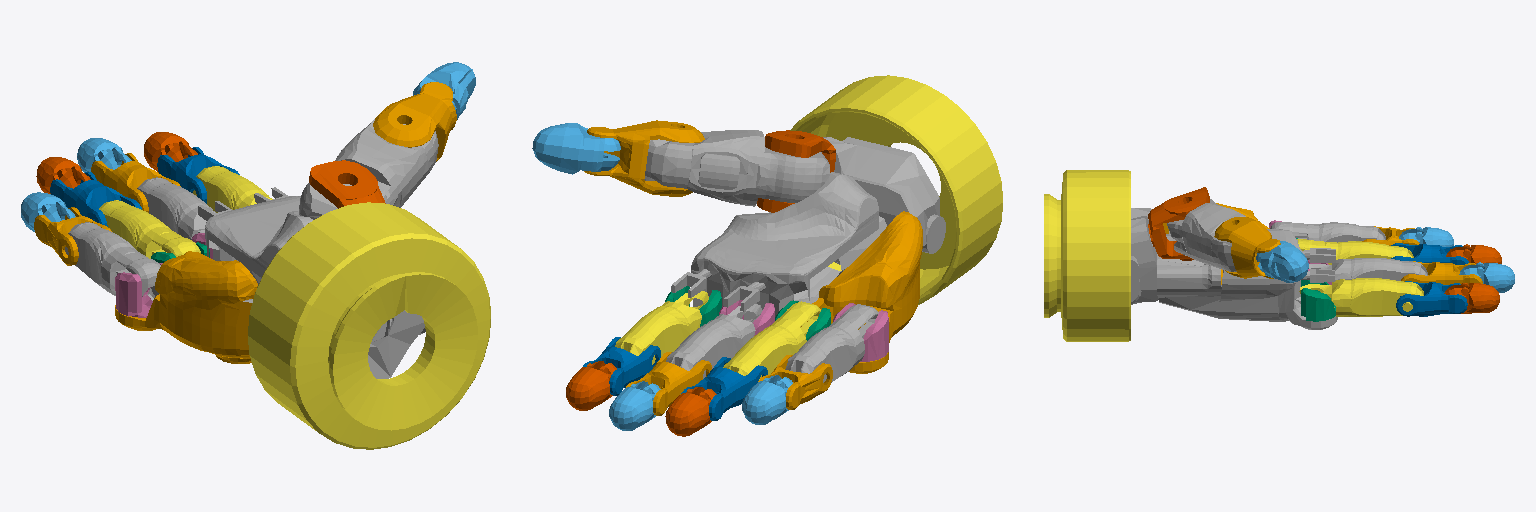
--- Facts derived from the render (not from the file) ---
Views: 3 orthographic renders of the robot side by side, from view 1: azimuth 30°, elevation 25°; view 2: azimuth 150°, elevation 25°; view 3: azimuth 270°, elevation 25°.
Robot: svh — 42 links, 41 joints (26 revolute, 15 fixed); root link world; default pose: all joints at 0.
Visible links, largest first — view 1: right_hand_base_link, right_hand_e2, right_hand_e1, right_hand_a, right_hand_b, right_hand_i, right_hand_j, right_hand_z, right_hand_k, right_hand_n, right_hand_l, right_hand_o (+8 smaller); view 2: right_hand_e1, right_hand_base_link, right_hand_a, right_hand_e2, right_hand_b, right_hand_i, right_hand_c, right_hand_j, right_hand_l, right_hand_k, right_hand_n, right_hand_o (+10 smaller); view 3: right_hand_base_link, right_hand_e1, right_hand_l, right_hand_a, right_hand_b, right_hand_z, right_hand_k, right_hand_p, right_hand_i, right_hand_c, right_hand_j, right_hand_t (+6 smaller).
Boxes of the visible links, x1,y1,x2,y2 form: right_hand_base_link: (248,202,490,449); right_hand_e2: (115,251,257,363); right_hand_e1: (198,187,425,378); right_hand_a: (299,119,438,219); right_hand_b: (373,82,456,161); right_hand_i: (65,222,160,300); right_hand_j: (99,200,200,258); right_hand_z: (309,160,385,208); right_hand_k: (137,177,215,239); right_hand_n: (50,172,141,226); right_hand_l: (193,166,272,212); right_hand_o: (91,153,180,212); right_hand_e1: (671,137,945,319); right_hand_base_link: (790,75,1002,304); right_hand_a: (644,130,829,206); right_hand_e2: (801,211,922,373); right_hand_b: (584,120,704,196); right_hand_i: (785,304,878,382); right_hand_c: (532,123,620,174); right_hand_j: (723,301,820,379); right_hand_l: (615,291,708,364); right_hand_k: (666,304,762,378); right_hand_n: (681,357,767,420); right_hand_o: (626,352,711,415); right_hand_base_link: (1044,170,1130,341); right_hand_e1: (1131,208,1337,329); right_hand_l: (1299,278,1423,316); right_hand_a: (1167,199,1245,271); right_hand_b: (1214,217,1280,278); right_hand_z: (1148,187,1209,260); right_hand_k: (1309,258,1427,280); right_hand_p: (1396,281,1467,316); right_hand_i: (1270,222,1385,242); right_hand_c: (1256,241,1308,282); right_hand_j: (1297,239,1413,264); right_hand_t: (1444,283,1499,313).
Bounding box of the posed robot: 0.1609 × 0.2465 × 0.0936 m (x, y, z).
23 mesh visuals loaded from 30 distinct referenced files (23 binary STL); not drawn: 7 (reference not matched to a file when rendering).

robot.urdf — svh:
<?xml version="1.0" ?>
<!-- =================================================================================== -->
<!-- |    This document was autogenerated by xacro from svh_ur5_mujoco.urdf.xacro      | -->
<!-- |    EDITING THIS FILE BY HAND IS NOT RECOMMENDED                                 | -->
<!-- =================================================================================== -->
<robot name="svh">
  <mujoco>
    <compiler balanceinertia="true" discardvisual="false" meshdir="[local-path]/catkin_ws/src/mujoco_ur5_svh_coupled/meshes"/>
  </mujoco>
  <!--
  <xacro:macro name="cylinder_inertial_fingers" params="radius length mass *origin">
    <inertial>
        <origin xyz="0 0 0" rpy="0 0 0" />
        <mass value="0.01" />
        <inertia
          ixx="0.1" ixy="0.0" ixz="0.0"
          iyy="0.1" iyz="0.0"
          izz="0.1" />
    </inertial>
  </xacro:macro>
  -->
  <gazebo>
    <plugin filename="libgazebo_ros_control.so" name="gazebo_ros_control">
      <controlPeriod>0.001</controlPeriod>
    </plugin>
  </gazebo>
  <gazebo>
    <plugin filename="libgazebo_ros_control.so" name="ros_control">
      <!--robotNamespace>/</robotNamespace-->
      <!--robotSimType>gazebo_ros_control/DefaultRobotHWSim</robotSimType-->
    </plugin>
    <!--
    <plugin name="gazebo_ros_power_monitor_controller" filename="libgazebo_ros_power_monitor.so">
      <alwaysOn>true</alwaysOn>
      <updateRate>1.0</updateRate>
      <timeout>5</timeout>
      <powerStateTopic>power_state</powerStateTopic>
      <powerStateRate>10.0</powerStateRate>
      <fullChargeCapacity>87.78</fullChargeCapacity>     
      <dischargeRate>-474</dischargeRate>
      <chargeRate>525</chargeRate>
      <dischargeVoltage>15.52</dischargeVoltage>
      <chargeVoltage>16.41</chargeVoltage>
    </plugin>
-->
  </gazebo>
  <!-- measured from model -->
  <!--property name="shoulder_height" value="0.089159" /-->
  <!--property name="shoulder_offset" value="0.13585" /-->
  <!-- shoulder_offset - elbow_offset + wrist_1_length = 0.10915 -->
  <!--property name="upper_arm_length" value="0.42500" /-->
  <!--property name="elbow_offset" value="0.1197" /-->
  <!-- CAD measured -->
  <!--property name="forearm_length" value="0.39225" /-->
  <!--property name="wrist_1_length" value="0.093" /-->
  <!-- CAD measured -->
  <!--property name="wrist_2_length" value="0.09465" /-->
  <!-- In CAD this distance is 0.930, but in the spec it is 0.09465 -->
  <!--property name="wrist_3_length" value="0.0823" /-->
  <!-- manually measured -->
  <link name="base_link">
    <visual>
      <geometry>
        <mesh filename="package://mujoco_ur5_svh_coupled/meshes/visual/base.stl"/>
      </geometry>
      <material name="LightGrey">
        <color rgba="0.7 0.7 0.7 1.0"/>
      </material>
    </visual>
    <collision>
      <geometry>
        <mesh filename="package://mujoco_ur5_svh_coupled/meshes/collision/base.stl"/>
      </geometry>
    </collision>
    <inertial>
      <mass value="4.0"/>
      <origin rpy="0 0 0" xyz="0.0 0.0 0.0"/>
      <inertia ixx="0.00443333156" ixy="0.0" ixz="0.0" iyy="0.00443333156" iyz="0.0" izz="0.0072"/>
    </inertial>
  </link>
  <joint name="shoulder_pan_joint" type="revolute">
    <parent link="base_link"/>
    <child link="shoulder_link"/>
    <origin rpy="0.0 0.0 0.0" xyz="0.0 0.0 0.089159"/>
    <axis xyz="0 0 1"/>
    <limit effort="150.0" lower="-3.141592653589793" upper="3.141592653589793" velocity="3.15"/>
    <dynamics damping="0.0" friction="0.0"/>
  </joint>
  <link name="shoulder_link">
    <visual>
      <geometry>
        <mesh filename="package://mujoco_ur5_svh_coupled/meshes/visual/shoulder.stl"/>
      </geometry>
      <material name="LightGrey">
        <color rgba="0.7 0.7 0.7 1.0"/>
      </material>
    </visual>
    <collision>
      <geometry>
        <mesh filename="package://mujoco_ur5_svh_coupled/meshes/collision/shoulder.stl"/>
      </geometry>
    </collision>
    <inertial>
      <mass value="3.7"/>
      <origin rpy="0 0 0" xyz="0.0 0.0 0.0"/>
      <inertia ixx="0.010267495893" ixy="0.0" ixz="0.0" iyy="0.010267495893" iyz="0.0" izz="0.00666"/>
    </inertial>
  </link>
  <joint name="shoulder_lift_joint" type="revolute">
    <parent link="shoulder_link"/>
    <child link="upper_arm_link"/>
    <origin rpy="0.0 1.5707963267948966 0.0" xyz="0.0 0.13585 0.0"/>
    <axis xyz="0 1 0"/>
    <limit effort="150.0" lower="-3.141592653589793" upper="3.141592653589793" velocity="3.15"/>
    <dynamics damping="0.0" friction="0.0"/>
  </joint>
  <link name="upper_arm_link">
    <visual>
      <geometry>
        <mesh filename="package://mujoco_ur5_svh_coupled/meshes/visual/upperarm.stl"/>
      </geometry>
      <material name="LightGrey">
        <color rgba="0.7 0.7 0.7 1.0"/>
      </material>
    </visual>
    <collision>
      <geometry>
        <mesh filename="package://mujoco_ur5_svh_coupled/meshes/collision/upperarm.stl"/>
      </geometry>
    </collision>
    <inertial>
      <mass value="8.393"/>
      <origin rpy="0 0 0" xyz="0.0 0.0 0.28"/>
      <inertia ixx="0.22689067591036005" ixy="0.0" ixz="0.0" iyy="0.22689067591036005" iyz="0.0" izz="0.0151074"/>
    </inertial>
  </link>
  <joint name="elbow_joint" type="revolute">
    <parent link="upper_arm_link"/>
    <child link="forearm_link"/>
    <origin rpy="0.0 0.0 0.0" xyz="0.0 -0.1197 0.425"/>
    <axis xyz="0 1 0"/>
    <limit effort="150.0" lower="-3.141592653589793" upper="3.141592653589793" velocity="3.15"/>
    <dynamics damping="0.0" friction="0.0"/>
  </joint>
  <link name="forearm_link">
    <visual>
      <geometry>
        <mesh filename="package://mujoco_ur5_svh_coupled/meshes/visual/forearm.stl"/>
      </geometry>
      <material name="LightGrey">
        <color rgba="0.7 0.7 0.7 1.0"/>
      </material>
    </visual>
    <collision>
      <geometry>
        <mesh filename="package://mujoco_ur5_svh_coupled/meshes/collision/forearm.stl"/>
      </geometry>
    </collision>
    <inertial>
      <mass value="2.275"/>
      <origin rpy="0 0 0" xyz="0.0 0.0 0.196125"/>
      <inertia ixx="0.03121679102890359" ixy="0.0" ixz="0.0" iyy="0.03121679102890359" iyz="0.0" izz="0.004095"/>
    </inertial>
  </link>
  <joint name="wrist_1_joint" type="revolute">
    <parent link="forearm_link"/>
    <child link="wrist_1_link"/>
    <origin rpy="0.0 1.5707963267948966 0.0" xyz="0.0 0.0 0.39225"/>
    <axis xyz="0 1 0"/>
    <limit effort="28.0" lower="-3.141592653589793" upper="3.141592653589793" velocity="3.2"/>
    <dynamics damping="0.0" friction="0.0"/>
  </joint>
  <link name="wrist_1_link">
    <visual>
      <geometry>
        <mesh filename="package://mujoco_ur5_svh_coupled/meshes/visual/wrist1.stl"/>
      </geometry>
      <material name="LightGrey">
        <color rgba="0.7 0.7 0.7 1.0"/>
      </material>
    </visual>
    <collision>
      <geometry>
        <mesh filename="package://mujoco_ur5_svh_coupled/meshes/collision/wrist1.stl"/>
      </geometry>
    </collision>
    <inertial>
      <mass value="1.219"/>
      <origin rpy="0 0 0" xyz="0.0 0.093 0.0"/>
      <inertia ixx="0.0025598989760400002" ixy="0.0" ixz="0.0" iyy="0.0025598989760400002" iyz="0.0" izz="0.0021942"/>
    </inertial>
  </link>
  <joint name="wrist_2_joint" type="revolute">
    <parent link="wrist_1_link"/>
    <child link="wrist_2_link"/>
    <origin rpy="0.0 0.0 0.0" xyz="0.0 0.093 0.0"/>
    <axis xyz="0 0 1"/>
    <limit effort="28.0" lower="-3.141592653589793" upper="3.141592653589793" velocity="3.2"/>
    <dynamics damping="0.0" friction="0.0"/>
  </joint>
  <link name="wrist_2_link">
    <visual>
      <geometry>
        <mesh filename="package://mujoco_ur5_svh_coupled/meshes/visual/wrist2.stl"/>
      </geometry>
      <material name="LightGrey">
        <color rgba="0.7 0.7 0.7 1.0"/>
      </material>
    </visual>
    <collision>
      <geometry>
        <mesh filename="package://mujoco_ur5_svh_coupled/meshes/collision/wrist2.stl"/>
      </geometry>
    </collision>
    <inertial>
      <mass value="1.219"/>
      <origin rpy="0 0 0" xyz="0.0 0.0 0.09465"/>
      <inertia ixx="0.0025598989760400002" ixy="0.0" ixz="0.0" iyy="0.0025598989760400002" iyz="0.0" izz="0.0021942"/>
    </inertial>
  </link>
  <joint name="wrist_3_joint" type="revolute">
    <parent link="wrist_2_link"/>
    <child link="wrist_3_link"/>
    <origin rpy="0.0 0.0 0.0" xyz="0.0 0.0 0.09465"/>
    <axis xyz="0 1 0"/>
    <limit effort="28.0" lower="-3.141592653589793" upper="3.141592653589793" velocity="3.2"/>
    <dynamics damping="0.0" friction="0.0"/>
  </joint>
  <link name="wrist_3_link">
    <visual>
      <geometry>
        <mesh filename="package://mujoco_ur5_svh_coupled/meshes/visual/wrist3.stl"/>
      </geometry>
      <material name="LightGrey">
        <color rgba="0.7 0.7 0.7 1.0"/>
      </material>
    </visual>
    <collision>
      <geometry>
        <mesh filename="package://mujoco_ur5_svh_coupled/meshes/collision/wrist3.stl"/>
      </geometry>
    </collision>
    <inertial>
      <mass value="0.1879"/>
      <origin rpy="1.5707963267948966 0 0" xyz="0.0 0.06505 0.0"/>
      <inertia ixx="8.469589112163e-05" ixy="0.0" ixz="0.0" iyy="8.469589112163e-05" iyz="0.0" izz="0.0001321171875"/>
    </inertial>
  </link>
  <joint name="ee_fixed_joint" type="fixed">
    <parent link="wrist_3_link"/>
    <child link="ee_link"/>
    <origin rpy="0.0 0.0 1.5707963267948966" xyz="0.0 0.0823 0.0"/>
  </joint>
  <link name="ee_link">
    <collision>
      <geometry>
        <box size="0.01 0.01 0.01"/>
      </geometry>
      <origin rpy="0 0 0" xyz="-0.01 0 0"/>
    </collision>
  </link>
  <transmission name="shoulder_pan_trans">
    <type>transmission_interface/SimpleTransmission</type>
    <joint name="shoulder_pan_joint">
      <hardwareInterface>hardware_interface/EffortJointInterface</hardwareInterface>
    </joint>
    <actuator name="shoulder_pan_motor">
      <mechanicalReduction>1</mechanicalReduction>
    </actuator>
  </transmission>
  <transmission name="shoulder_lift_trans">
    <type>transmission_interface/SimpleTransmission</type>
    <joint name="shoulder_lift_joint">
      <hardwareInterface>hardware_interface/EffortJointInterface</hardwareInterface>
    </joint>
    <actuator name="shoulder_lift_motor">
      <mechanicalReduction>1</mechanicalReduction>
    </actuator>
  </transmission>
  <transmission name="elbow_trans">
    <type>transmission_interface/SimpleTransmission</type>
    <joint name="elbow_joint">
      <hardwareInterface>hardware_interface/EffortJointInterface</hardwareInterface>
    </joint>
    <actuator name="elbow_motor">
      <mechanicalReduction>1</mechanicalReduction>
    </actuator>
  </transmission>
  <transmission name="wrist_1_trans">
    <type>transmission_interface/SimpleTransmission</type>
    <joint name="wrist_1_joint">
      <hardwareInterface>hardware_interface/EffortJointInterface</hardwareInterface>
    </joint>
    <actuator name="wrist_1_motor">
      <mechanicalReduction>1</mechanicalReduction>
    </actuator>
  </transmission>
  <transmission name="wrist_2_trans">
    <type>transmission_interface/SimpleTransmission</type>
    <joint name="wrist_2_joint">
      <hardwareInterface>hardware_interface/EffortJointInterface</hardwareInterface>
    </joint>
    <actuator name="wrist_2_motor">
      <mechanicalReduction>1</mechanicalReduction>
    </actuator>
  </transmission>
  <transmission name="wrist_3_trans">
    <type>transmission_interface/SimpleTransmission</type>
    <joint name="wrist_3_joint">
      <hardwareInterface>hardware_interface/EffortJointInterface</hardwareInterface>
    </joint>
    <actuator name="wrist_3_motor">
      <mechanicalReduction>1</mechanicalReduction>
    </actuator>
  </transmission>
  <gazebo reference="shoulder_link">
    <selfCollide>true</selfCollide>
  </gazebo>
  <gazebo reference="upper_arm_link">
    <selfCollide>true</selfCollide>
  </gazebo>
  <gazebo reference="forearm_link">
    <selfCollide>true</selfCollide>
  </gazebo>
  <gazebo reference="wrist_1_link">
    <selfCollide>true</selfCollide>
  </gazebo>
  <gazebo reference="wrist_3_link">
    <selfCollide>true</selfCollide>
  </gazebo>
  <gazebo reference="wrist_2_link">
    <selfCollide>true</selfCollide>
  </gazebo>
  <gazebo reference="ee_link">
    <selfCollide>true</selfCollide>
  </gazebo>
  <!-- ROS base_link to UR 'Base' Coordinates transform -->
  <link name="base"/>
  <joint name="base_link-base_fixed_joint" type="fixed">
    <!-- NOTE: this rotation is only needed as long as base_link itself is
                 not corrected wrt the real robot (ie: rotated over 180
                 degrees)
      -->
    <origin rpy="0 0 -3.141592653589793" xyz="0 0 0"/>
    <parent link="base_link"/>
    <child link="base"/>
  </joint>
  <!-- Frame coincident with all-zeros TCP on UR controller -->
  <link name="tool0"/>
  <joint name="wrist_3_link-tool0_fixed_joint" type="fixed">
    <origin rpy="-1.5707963267948966 0 0" xyz="0 0.0823 0"/>
    <parent link="wrist_3_link"/>
    <child link="tool0"/>
  </joint>
  <link name="world"/>
  <joint name="world_joint" type="fixed">
    <parent link="world"/>
    <child link="base_link"/>
    <origin rpy="0.0 0.0 0.0" xyz="0.0 0.0 0.0"/>
  </joint>
  <!-- RIGHT HAND = 1, LEFT HAND = -1 -->
  <!-- BASE_LINE LINKS -->
  <joint name="right_hand_base_joint" type="fixed">
    <origin rpy="0 0 0" xyz="0 0 0.032"/>
    <parent link="tool0"/>
    <child link="right_hand_base_link"/>
  </joint>
  <link name="right_hand_base_link">
    <origin rpy="0 0 0" xyz="0 0 0.032"/>
    <visual>
      <origin rpy="0 0 0" xyz="0 0 -0.032"/>
      <geometry>
        <mesh filename="package://mujoco_ur5_svh_coupled/meshes/base10.stl"/>
      </geometry>
    </visual>
    <collision>
      <origin rpy="0 0 0" xyz="0 0 -0.032"/>
      <geometry>
        <mesh filename="package://mujoco_ur5_svh_coupled/meshes/base10.stl"/>
      </geometry>
    </collision>
    <inertial>
      <origin rpy="0 0 0" xyz="0 0 0"/>
      <mass value="0.01"/>
      <inertia ixx="0.1" ixy="0.0" ixz="0.0" iyy="0.1" iyz="0.0" izz="0.1"/>
    </inertial>
  </link>
  <link name="right_hand_d">
    <inertial>
      <origin rpy="0 0 0" xyz="0 0 0"/>
      <mass value="0.01"/>
      <inertia ixx="0.1" ixy="0.0" ixz="0.0" iyy="0.1" iyz="0.0" izz="0.1"/>
    </inertial>
  </link>
  <link name="right_hand_h">
    <inertial>
      <origin rpy="0 0 0" xyz="0 0 0"/>
      <mass value="0.01"/>
      <inertia ixx="0.1" ixy="0.0" ixz="0.0" iyy="0.1" iyz="0.0" izz="0.1"/>
    </inertial>
  </link>
  <link name="right_hand_d2">
    <inertial>
      <origin rpy="0 0 0" xyz="0 0 0"/>
      <mass value="0.01"/>
      <inertia ixx="0.1" ixy="0.0" ixz="0.0" iyy="0.1" iyz="0.0" izz="0.1"/>
    </inertial>
  </link>
  <!-- LENGTH NOT FOUND IN DATASHEET! GUESSED!!! -->
  <link name="right_hand_e1">
    <visual>
      <origin rpy="0 0 0" xyz="0 0.01313 0"/>
      <geometry>
        <mesh filename="package://mujoco_ur5_svh_coupled/meshes/h10.stl" scale="1 1 1"/>
      </geometry>
    </visual>
    <collision>
      <origin rpy="0 0 0" xyz="0 0.01313 0"/>
      <geometry>
        <mesh filename="package://mujoco_ur5_svh_coupled/meshes/h10.stl" scale="1 1 1"/>
      </geometry>
    </collision>
    <inertial>
      <origin rpy="0 0 0" xyz="0 0 0"/>
      <mass value="0.01"/>
      <inertia ixx="0.1" ixy="0.0" ixz="0.0" iyy="0.1" iyz="0.0" izz="0.1"/>
    </inertial>
  </link>
  <!-- LENGTH NOT FOUND IN DATASHEET! GUESSED!!! -->
  <link name="right_hand_e2">
    <visual>
      <origin xyz="-0.0007 0 -0.01002"/>
      <geometry>
        <mesh filename="package://mujoco_ur5_svh_coupled/meshes/h11.stl" scale="1 1 1"/>
      </geometry>
    </visual>
    <collision>
      <origin xyz="-0.0007 0 -0.01002"/>
      <geometry>
        <mesh filename="package://mujoco_ur5_svh_coupled/meshes/h11.stl" scale="1 1 1"/>
      </geometry>
    </collision>
    <inertial>
      <origin rpy="0 0 0" xyz="0 0 0"/>
      <mass value="0.01"/>
      <inertia ixx="0.1" ixy="0.0" ixz="0.0" iyy="0.1" iyz="0.0" izz="0.1"/>
    </inertial>
  </link>
  <!-- LENGTH NOT FOUND IN DATASHEET! GUESSED!!! -->
  <link name="right_hand_e3">
    <inertial>
      <origin rpy="0 0 0" xyz="0 0 0"/>
      <mass value="0.01"/>
      <inertia ixx="0.1" ixy="0.0" ixz="0.0" iyy="0.1" iyz="0.0" izz="0.1"/>
    </inertial>
  </link>
  <link name="right_hand_e">
    <inertial>
      <origin rpy="0 0 0" xyz="0 0 0"/>
      <mass value="0.01"/>
      <inertia ixx="0.1" ixy="0.0" ixz="0.0" iyy="0.1" iyz="0.0" izz="0.1"/>
    </inertial>
  </link>
  <!-- LENGTH NOT FOUND IN DATASHEET! GUESSED, BUT POSITION CALCULATED: E4 = D-G-F!!! -->
  <link name="right_hand_e4">
    <inertial>
      <origin rpy="0 0 0" xyz="0 0 0"/>
      <mass value="0.01"/>
      <inertia ixx="0.1" ixy="0.0" ixz="0.0" iyy="0.1" iyz="0.0" izz="0.1"/>
    </inertial>
  </link>
  <!-- LENGTH NOT FOUND IN DATASHEET! GUESSED, BUT POSITION CALCULATED: E5 = D-G!!! -->
  <link name="right_hand_e5">
    <inertial>
      <origin rpy="0 0 0" xyz="0 0 0"/>
      <mass value="0.01"/>
      <inertia ixx="0.1" ixy="0.0" ixz="0.0" iyy="0.1" iyz="0.0" izz="0.1"/>
    </inertial>
  </link>
  <!-- THUMB LINKS -->
  <link name="right_hand_z">
    <visual>
      <origin xyz="0 0 0.02442"/>
      <geometry>
        <mesh filename="package://mujoco_ur5_svh_coupled/meshes/d10.stl" scale="1 1 1"/>
      </geometry>
    </visual>
    <collision>
      <origin xyz="0 0 0.02442"/>
      <geometry>
        <mesh filename="package://mujoco_ur5_svh_coupled/meshes/d10.stl" scale="1 1 1"/>
      </geometry>
    </collision>
    <inertial>
      <origin rpy="0 0 0" xyz="0 0 0"/>
      <mass value="0.01"/>
      <inertia ixx="0.1" ixy="0.0" ixz="0.0" iyy="0.1" iyz="0.0" izz="0.1"/>
    </inertial>
  </link>
  <link name="right_hand_virtual_a">
    <inertial>
      <origin rpy="0 0 0" xyz="0 0 0"/>
      <mass value="0.01"/>
      <inertia ixx="0.1" ixy="0.0" ixz="0.0" iyy="0.1" iyz="0.0" izz="0.1"/>
    </inertial>
  </link>
  <link name="right_hand_a">
    <visual>
      <geometry>
        <mesh filename="package://mujoco_ur5_svh_coupled/meshes/d11.stl" scale="1 1 1"/>
      </geometry>
    </visual>
    <collision>
      <geometry>
        <mesh filename="package://mujoco_ur5_svh_coupled/meshes/d11.stl" scale="1 1 1"/>
      </geometry>
    </collision>
    <inertial>
      <mass value="0.078"/>
      <origin rpy="0 0 0" xyz="0.0 0.0 0.0"/>
      <inertia ixx="0.1498224" ixy="0.0" ixz="0.0" iyy="0.11553615378552" iyz="0.0" izz="0.11553615378552"/>
    </inertial>
  </link>
  <link name="right_hand_b">
    <visual>
      <geometry>
        <mesh filename="package://mujoco_ur5_svh_coupled/meshes/d12.stl" scale="1 1 1"/>
      </geometry>
    </visual>
    <collision>
      <geometry>
        <mesh filename="package://mujoco_ur5_svh_coupled/meshes/d12.stl" scale="1 1 1"/>
      </geometry>
    </collision>
    <inertial>
      <mass value="0.0325"/>
      <origin rpy="0 0 0" xyz="0.0 0.0 0.0"/>
      <inertia ixx="0.062426" ixy="0.0" ixz="0.0" iyy="0.0373067350773" iyz="0.0" izz="0.0373067350773"/>
    </inertial>
  </link>
  <link name="right_hand_c">
    <visual>
      <geometry>
        <mesh filename="package://mujoco_ur5_svh_coupled/meshes/d13.stl" scale="1 1 1"/>
      </geometry>
    </visual>
    <collision>
      <geometry>
        <mesh filename="package://mujoco_ur5_svh_coupled/meshes/d13.stl" scale="1 1 1"/>
      </geometry>
      <surface>
        <friction>
          <ode>
            <mu>1</mu>
            <mu2>1</mu2>
          </ode>
        </friction>
        <contact>
          <ode>
            <min_depth>0.1</min_depth>
            <max_vel>0.0</max_vel>
          </ode>
        </contact>
      </surface>
    </collision>
    <inertial>
      <mass value="0.2"/>
      <origin rpy="0 0 0" xyz="0.0 0.0 0.0"/>
      <inertia ixx="0.38415999999999995" ixy="0.0" ixz="0.0" iyy="0.20874658316800002" iyz="0.0" izz="0.20874658316800002"/>
    </inertial>
  </link>
  <!-- INDEX FINGER LINKS -->
  <link name="right_hand_virtual_l">
    <visual>
      <origin xyz="0 0 0.01321"/>
      <geometry>
        <mesh filename="package://mujoco_ur5_svh_coupled/meshes/f10.stl"/>
      </geometry>
    </visual>
    <collision>
      <origin xyz="0 0 0.01321"/>
      <geometry>
        <mesh filename="package://mujoco_ur5_svh_coupled/meshes/f10.stl"/>
      </geometry>
    </collision>
    <inertial>
      <origin rpy="0 0 0" xyz="0 0 0"/>
      <mass value="0.01"/>
      <inertia ixx="0.1" ixy="0.0" ixz="0.0" iyy="0.1" iyz="0.0" izz="0.1"/>
    </inertial>
  </link>
  <link name="right_hand_l">
    <visual>
      <geometry>
        <mesh filename="package://mujoco_ur5_svh_coupled/meshes/f11.stl"/>
      </geometry>
    </visual>
    <collision>
      <geometry>
        <mesh filename="package://mujoco_ur5_svh_coupled/meshes/f11.stl"/>
      </geometry>
    </collision>
    <inertial>
      <mass value="0.2"/>
      <origin rpy="0 0 0" xyz="0.0 0.0 0.0"/>
      <inertia ixx="0.38415999999999995" ixy="0.0" ixz="0.0" iyy="0.342079863168" iyz="0.0" izz="0.342079863168"/>
    </inertial>
  </link>
  <link name="right_hand_p">
    <visual>
      <geometry>
        <mesh filename="package://mujoco_ur5_svh_coupled/meshes/f12.stl"/>
      </geometry>
    </visual>
    <collision>
      <geometry>
        <mesh filename="package://mujoco_ur5_svh_coupled/meshes/f12.stl"/>
      </geometry>
    </collision>
    <inertial>
      <mass value="0.2"/>
      <origin rpy="0 0 0" xyz="0.0 0.0 0.0"/>
      <inertia ixx="0.38415999999999995" ixy="0.0" ixz="0.0" iyy="0.25874656316800004" iyz="0.0" izz="0.25874656316800004"/>
    </inertial>
  </link>
  <link name="right_hand_t">
    <visual>
      <geometry>
        <mesh filename="package://mujoco_ur5_svh_coupled/meshes/f13.stl"/>
      </geometry>
    </visual>
    <collision name="index_collision">
      <geometry>
        <mesh filename="package://mujoco_ur5_svh_coupled/meshes/f13.stl"/>
      </geometry>
      <surface>
        <friction>
          <ode>
            <mu>1</mu>
            <mu2>1</mu2>
          </ode>
        </friction>
        <contact>
          <ode>
            <min_depth>0.1</min_depth>
            <max_vel>0.0</max_vel>
          </ode>
        </contact>
      </surface>
    </collision>
    <inertial>
      <mass value="0.2"/>
      <origin rpy="0 0 0" xyz="0.0 0.0 0.0"/>
      <inertia ixx="0.38415999999999995" ixy="0.0" ixz="0.0" iyy="0.229579908168" iyz="0.0" izz="0.229579908168"/>
    </inertial>
  </link>
  <!-- MIDDLE FINGER LINKS -->
  <link name="right_hand_virtual_k">
    <visual>
      <origin xyz="0 0 0.01321"/>
      <geometry>
        <mesh filename="package://mujoco_ur5_svh_coupled/meshes/f20.stl"/>
      </geometry>
    </visual>
    <collision>
      <origin xyz="0 0 0.01321"/>
      <geometry>
        <mesh filename="package://mujoco_ur5_svh_coupled/meshes/f20.stl"/>
      </geometry>
    </collision>
    <inertial>
      <origin rpy="0 0 0" xyz="0 0 0"/>
      <mass value="0.01"/>
      <inertia ixx="0.1" ixy="0.0" ixz="0.0" iyy="0.1" iyz="0.0" izz="0.1"/>
    </inertial>
  </link>
  <link name="right_hand_k">
    <visual>
      <geometry>
        <mesh filename="package://mujoco_ur5_svh_coupled/meshes/f21.stl"/>
      </geometry>
    </visual>
    <collision>
      <geometry>
        <mesh filename="package://mujoco_ur5_svh_coupled/meshes/f21.stl"/>
      </geometry>
    </collision>
    <inertial>
      <mass value="0.078"/>
      <origin rpy="0 0 0" xyz="0.0 0.0 0.0"/>
      <inertia ixx="0.1498224" ixy="0.0" ixz="0.0" iyy="0.15453613818552" iyz="0.0" izz="0.15453613818552"/>
    </inertial>
  </link>
  <link name="right_hand_o">
    <visual>
      <geometry>
        <mesh filename="package://mujoco_ur5_svh_coupled/meshes/f22.stl"/>
      </geometry>
    </visual>
    <collision>
      <geometry>
        <mesh filename="package://mujoco_ur5_svh_coupled/meshes/f22.stl"/>
      </geometry>
    </collision>
    <inertial>
      <mass value="0.0325"/>
      <origin rpy="0 0 0" xyz="0.0 0.0 0.0"/>
      <inertia ixx="0.062426" ixy="0.0" ixz="0.0" iyy="0.0420463165148" iyz="0.0" izz="0.0420463165148"/>
    </inertial>
  </link>
  <link name="right_hand_s">
    <visual>
      <geometry>
        <mesh filename="package://mujoco_ur5_svh_coupled/meshes/f23.stl"/>
      </geometry>
    </visual>
    <collision>
      <geometry>
        <mesh filename="package://mujoco_ur5_svh_coupled/meshes/f23.stl"/>
      </geometry>
      <surface>
        <friction>
          <ode>
            <mu>1</mu>
            <mu2>1</mu2>
          </ode>
        </friction>
        <contact>
          <ode>
            <min_depth>0.1</min_depth>
            <max_vel>0.0</max_vel>
          </ode>
        </contact>
      </surface>
    </collision>
    <inertial>
      <mass value="0.0195"/>
      <origin rpy="0 0 0" xyz="0.0 0.0 0.0"/>
      <inertia ixx="0.0374556" ixy="0.0" ixz="0.0" iyy="0.022384041046379997" iyz="0.0" izz="0.022384041046379997"/>
    </inertial>
  </link>
  <!-- RING FINGER LINKS -->
  <link name="right_hand_virtual_j">
    <visual>
      <origin xyz="0 0 -0.01321"/>
      <geometry>
        <mesh filename="package://mujoco_ur5_svh_coupled/meshes/f30.stl"/>
      </geometry>
    </visual>
    <collision>
      <origin xyz="0 0 -0.01321"/>
      <geometry>
        <mesh filename="package://mujoco_ur5_svh_coupled/meshes/f30.stl"/>
      </geometry>
    </collision>
    <inertial>
      <origin rpy="0 0 0" xyz="0 0 0"/>
      <mass value="0.01"/>
      <inertia ixx="0.1" ixy="0.0" ixz="0.0" iyy="0.1" iyz="0.0" izz="0.1"/>
    </inertial>
  </link>
  <link name="right_hand_j">
    <visual>
      <geometry>
        <mesh filename="package://mujoco_ur5_svh_coupled/meshes/f31.stl"/>
      </geometry>
    </visual>
    <collision>
      <geometry>
        <mesh filename="package://mujoco_ur5_svh_coupled/meshes/f31.stl"/>
      </geometry>
    </collision>
    <inertial>
      <mass value="0.078"/>
      <origin rpy="0 0 0" xyz="0.0 0.0 0.0"/>
      <inertia ixx="0.1498224" ixy="0.0" ixz="0.0" iyy="0.15453613818552" iyz="0.0" izz="0.15453613818552"/>
    </inertial>
  </link>
  <link name="right_hand_n">
    <visual>
      <geometry>
        <mesh filename="package://mujoco_ur5_svh_coupled/meshes/f32.stl"/>
      </geometry>
    </visual>
    <collision>
      <geometry>
        <mesh filename="package://mujoco_ur5_svh_coupled/meshes/f32.stl"/>
      </geometry>
    </collision>
    <inertial>
      <mass value="0.0325"/>
      <origin rpy="0 0 0" xyz="0.0 0.0 0.0"/>
      <inertia ixx="0.062426" ixy="0.0" ixz="0.0" iyy="0.0420463165148" iyz="0.0" izz="0.0420463165148"/>
    </inertial>
  </link>
  <link name="right_hand_r">
    <visual>
      <geometry>
        <mesh filename="package://mujoco_ur5_svh_coupled/meshes/f33.stl"/>
      </geometry>
    </visual>
    <collision>
      <geometry>
        <mesh filename="package://mujoco_ur5_svh_coupled/meshes/f33.stl"/>
      </geometry>
      <surface>
        <friction>
          <ode>
            <mu>1</mu>
            <mu2>1</mu2>
          </ode>
        </friction>
        <contact>
          <ode>
            <min_depth>0.1</min_depth>
            <max_vel>0.0</max_vel>
          </ode>
        </contact>
      </surface>
    </collision>
    <inertial>
      <mass value="0.0195"/>
      <origin rpy="0 0 0" xyz="0.0 0.0 0.0"/>
      <inertia ixx="0.0374556" ixy="0.0" ixz="0.0" iyy="0.022384041046379997" iyz="0.0" izz="0.022384041046379997"/>
    </inertial>
  </link>
  <!-- LITTLE FINGER LINKS -->
  <link name="right_hand_virtual_i">
    <visual>
      <origin xyz="0 0 -0.01321"/>
      <geometry>
        <mesh filename="package://mujoco_ur5_svh_coupled/meshes/f40.stl"/>
      </geometry>
    </visual>
    <collision>
      <origin xyz="0 0 -0.01321"/>
      <geometry>
        <mesh filename="package://mujoco_ur5_svh_coupled/meshes/f40.stl"/>
      </geometry>
    </collision>
    <inertial>
      <origin rpy="0 0 0" xyz="0 0 0"/>
      <mass value="0.01"/>
      <inertia ixx="0.1" ixy="0.0" ixz="0.0" iyy="0.1" iyz="0.0" izz="0.1"/>
    </inertial>
  </link>
  <link name="right_hand_i">
    <visual>
      <geometry>
        <mesh filename="package://mujoco_ur5_svh_coupled/meshes/f41.stl"/>
      </geometry>
    </visual>
    <collision>
      <geometry>
        <mesh filename="package://mujoco_ur5_svh_coupled/meshes/f41.stl"/>
      </geometry>
    </collision>
    <inertial>
      <mass value="0.078"/>
      <origin rpy="0 0 0" xyz="0.0 0.0 0.0"/>
      <inertia ixx="0.1498224" ixy="0.0" ixz="0.0" iyy="0.15453613818552" iyz="0.0" izz="0.15453613818552"/>
    </inertial>
  </link>
  <link name="right_hand_m">
    <visual>
      <geometry>
        <mesh filename="package://mujoco_ur5_svh_coupled/meshes/f42.stl"/>
      </geometry>
    </visual>
    <collision>
      <geometry>
        <mesh filename="package://mujoco_ur5_svh_coupled/meshes/f42.stl"/>
      </geometry>
    </collision>
    <inertial>
      <mass value="0.0325"/>
      <origin rpy="0 0 0" xyz="0.0 0.0 0.0"/>
      <inertia ixx="0.062426" ixy="0.0" ixz="0.0" iyy="0.0420463165148" iyz="0.0" izz="0.0420463165148"/>
    </inertial>
  </link>
  <link name="right_hand_q">
    <visual>
      <geometry>
        <mesh filename="package://mujoco_ur5_svh_coupled/meshes/f43.stl"/>
      </geometry>
    </visual>
    <collision>
      <geometry>
        <mesh filename="package://mujoco_ur5_svh_coupled/meshes/f43.stl"/>
      </geometry>
      <surface>
        <friction>
          <ode>
            <mu>1</mu>
            <mu2>1</mu2>
          </ode>
        </friction>
        <contact>
          <ode>
            <min_depth>0.1</min_depth>
            <max_vel>0.0</max_vel>
          </ode>
        </contact>
      </surface>
    </collision>
    <inertial>
      <mass value="0.0195"/>
      <origin rpy="0 0 0" xyz="0.0 0.0 0.0"/>
      <inertia ixx="0.0374556" ixy="0.0" ixz="0.0" iyy="0.022384041046379997" iyz="0.0" izz="0.022384041046379997"/>
    </inertial>
  </link>
  <joint name="right_hand_Thumb_Flexion" type="revolute">
    <parent link="right_hand_virtual_a"/>
    <child link="right_hand_a"/>
    <limit effort="10.0" lower="0.0" upper="0.9704" velocity="1"/>
    <origin rpy="0 0 -0.9704" xyz="0 0 0"/>
    <axis xyz="0 0 1"/>
    <dynamics damping="50.5" friction="1"/>
  </joint>
  <joint name="right_hand_Thumb_Helper" type="fixed">
    <parent link="right_hand_z"/>
    <child link="right_hand_virtual_a"/>
    <origin rpy="0 -1.5707 3.1416" xyz="0 0 0.04596"/>
  </joint>
  <!-- BASE_LINE JOINTS -->
  <joint name="right_hand_Thumb_Opposition" type="revolute">
    <parent link="right_hand_e1"/>
    <child link="right_hand_z"/>
    <limit effort="10.0" lower="0.0" upper="0.9879" velocity="1"/>
    <origin rpy="0 0.2618 1.571" xyz="-0.0169 0.02626 0"/>
    <axis xyz="0 0 -1"/>
    <dynamics damping="50.5" friction="1"/>
  </joint>
  <!-- JOINT NOT FOR BASE_LINE. BUT WRITTEN DOWN HERE FOR BETTER UX -->
  <joint name="right_hand_f1" type="fixed">
    <parent link="right_hand_e1"/>
    <child link="right_hand_d"/>
    <origin rpy="0 0 0" xyz="0 0 0"/>
  </joint>
  <joint name="right_hand_f2" type="fixed">
    <parent link="right_hand_d"/>
    <child link="right_hand_h"/>
    <origin rpy="0 0 0" xyz="0 0 0"/>
  </joint>
  <joint name="right_hand_f3" type="fixed">
    <parent link="right_hand_h"/>
    <child link="right_hand_d2"/>
    <origin rpy="0 0 0" xyz="0 0 0"/>
  </joint>
  <joint name="right_hand_f4" type="fixed">
    <parent link="right_hand_base_link"/>
    <child link="right_hand_e1"/>
    <origin rpy="0 0 0" xyz="0 -0.01313 0"/>
  </joint>
  <joint name="right_hand_j5" type="revolute">
    <parent link="right_hand_e1"/>
    <child link="right_hand_e2"/>
    <limit effort="10.0" lower="0.0" upper="0.98786" velocity="1"/>
    <origin rpy="0 0 0" xyz="0.0184 0.006 0.0375"/>
    <axis xyz="0 0 1"/>
    <mimic joint="right_hand_Thumb_Opposition" multiplier="1" offset="0"/>
    <dynamics damping="50.5" friction="1"/>
  </joint>
  <gazebo>
    <plugin filename="libroboticsgroup_upatras_gazebo_mimic_joint_plugin.so" name="right_hand_j5_mimic_joint_plugin">
      <joint>right_hand_Thumb_Opposition</joint>
      <mimicJoint>right_hand_j5</mimicJoint>
      <multiplier>1</multiplier>
      <offset>0</offset>
      <sensitiveness>0.0</sensitiveness>
      <!-- if absolute difference between setpoint and process value is below this threshold, do nothing; 0.0 = disable [rad] -->
      <maxEffort>10.0</maxEffort>
    </plugin>
  </gazebo>
  <joint name="right_hand_f5" type="fixed">
    <parent link="right_hand_e2"/>
    <child link="right_hand_e3"/>
    <origin rpy="0 0 0" xyz="0 -0.0060 0"/>
  </joint>
  <joint name="right_hand_f6" type="fixed">
    <parent link="right_hand_e3"/>
    <child link="right_hand_e"/>
    <origin rpy="0 0 0" xyz="0 0 0"/>
  </joint>
  <joint name="right_hand_f7" type="fixed">
    <parent link="right_hand_e"/>
    <child link="right_hand_e4"/>
    <origin rpy="0 0 0" xyz="0 0 0"/>
  </joint>
  <joint name="right_hand_f8" type="fixed">
    <parent link="right_hand_e"/>
    <child link="right_hand_e5"/>
    <origin rpy="0 0 0" xyz="0 0 0"/>
  </joint>
  <!-- THUMB JOINTS -->
  <joint name="right_hand_j3" type="revolute">
    <parent link="right_hand_a"/>
    <child link="right_hand_b"/>
    <limit effort="10.0" lower="0.0" upper="0.98506" velocity="1"/>
    <origin rpy="0 0 0" xyz="0.0485 0 0"/>
    <axis xyz="0 0 1"/>
    <mimic joint="right_hand_Thumb_Flexion" multiplier="1.01511" offset="0"/>
    <dynamics damping="50.5" friction="1"/>
  </joint>
  <gazebo>
    <plugin filename="libroboticsgroup_upatras_gazebo_mimic_joint_plugin.so" name="right_hand_j3_mimic_joint_plugin">
      <joint>right_hand_Thumb_Flexion</joint>
      <mimicJoint>right_hand_j3</mimicJoint>
      <multiplier>1.01511</multiplier>
      <offset>0</offset>
      <sensitiveness>0.0</sensitiveness>
      <!-- if absolute difference between setpoint and process value is below this threshold, do nothing; 0.0 = disable [rad] -->
      <maxEffort>10.0</maxEffort>
    </plugin>
  </gazebo>
  <joint name="right_hand_j4" type="revolute">
    <parent link="right_hand_b"/>
    <child link="right_hand_c"/>
    <limit effort="10.0" lower="0.0" upper="1.406" velocity="1"/>
    <origin rpy="0 0 0" xyz="0.030 0 0"/>
    <axis xyz="0 0 1"/>
    <mimic joint="right_hand_Thumb_Flexion" multiplier="1.44889" offset="0"/>
    <dynamics damping="50.5" friction="1"/>
  </joint>
  <gazebo>
    <plugin filename="libroboticsgroup_upatras_gazebo_mimic_joint_plugin.so" name="right_hand_j4_mimic_joint_plugin">
      <joint>right_hand_Thumb_Flexion</joint>
      <mimicJoint>right_hand_j4</mimicJoint>
      <multiplier>1.44889</multiplier>
      <offset>0</offset>
      <sensitiveness>0.0</sensitiveness>
      <!-- if absolute difference between setpoint and process value is below this threshold, do nothing; 0.0 = disable [rad] -->
      <maxEffort>10.0</maxEffort>
    </plugin>
  </gazebo>
  <!-- INDEX FINGER JOINTS -->
  <joint name="right_hand_Index_Finger_Distal" type="revolute">
    <parent link="right_hand_l"/>
    <child link="right_hand_p"/>
    <limit effort="10.0" lower="0" upper="1.334" velocity="1"/>
    <origin rpy="0 0 0" xyz="0.04804 0 0"/>
    <axis xyz="0 0 1"/>
    <dynamics damping="50.5" friction="1"/>
  </joint>
  <joint name="right_hand_Index_Finger_Proximal" type="revolute">
    <parent link="right_hand_virtual_l"/>
    <child link="right_hand_l"/>
    <limit effort="10.0" lower="0.0" upper="0.79849" velocity="1"/>
    <origin rpy="-1.5707 0 0" xyz="0 0 0"/>
    <axis xyz="0 0 1"/>
    <dynamics damping="50.5" friction="1"/>
  </joint>
  <!-- JOINT Finger_Spread in BASE_LINE section for better UX -->
  <joint name="right_hand_j14" type="revolute">
    <parent link="right_hand_p"/>
    <child link="right_hand_t"/>
    <limit effort="10.0" lower="0" upper="1.394" velocity="1"/>
    <origin rpy="0 0 0" xyz="0.026 0 0"/>
    <axis xyz="0 0 1"/>
    <mimic joint="right_hand_Index_Finger_Distal" multiplier="1.0450" offset="0"/>
    <dynamics damping="50.5" friction="1"/>
  </joint>
  <gazebo>
    <plugin filename="libroboticsgroup_upatras_gazebo_mimic_joint_plugin.so" name="right_hand_j14_mimic_joint_plugin">
      <joint>right_hand_Index_Finger_Distal</joint>
      <mimicJoint>right_hand_j14</mimicJoint>
      <multiplier>1.045</multiplier>
      <offset>0</offset>
      <sensitiveness>0.0</sensitiveness>
      <!-- if absolute difference between setpoint and process value is below this threshold, do nothing; 0.0 = disable [rad] -->
      <maxEffort>10.0</maxEffort>
    </plugin>
  </gazebo>
  <!-- MIDDLE FINGER JOINTS -->
  <joint name="right_hand_Middle_Finger_Proximal" type="revolute">
    <parent link="right_hand_virtual_k"/>
    <child link="right_hand_k"/>
    <limit effort="10.0" lower="0.0" upper="0.79849" velocity="1"/>
    <origin rpy="-1.5707 0 0" xyz="0 0 0"/>
    <axis xyz="0 0 1"/>
    <dynamics damping="50.5" friction="1"/>
  </joint>
  <joint name="right_hand_Middle_Finger_Distal" type="revolute">
    <parent link="right_hand_k"/>
    <child link="right_hand_o"/>
    <limit effort="10.0" lower="0" upper="1.334" velocity="1"/>
    <origin rpy="0 0 0" xyz="0.05004 0 0"/>
    <axis xyz="0 0 1"/>
    <dynamics damping="50.5" friction="1"/>
  </joint>
  <joint name="right_hand_j15" type="revolute">
    <parent link="right_hand_o"/>
    <child link="right_hand_s"/>
    <limit effort="10.0" lower="0" upper="1.334" velocity="1"/>
    <origin rpy="0 0 0" xyz="0.032 0 0"/>
    <axis xyz="0 0 1"/>
    <mimic joint="right_hand_Middle_Finger_Distal" multiplier="1.0454" offset="0"/>
    <dynamics damping="50.5" friction="1"/>
  </joint>
  <gazebo>
    <plugin filename="libroboticsgroup_upatras_gazebo_mimic_joint_plugin.so" name="right_hand_j15_mimic_joint_plugin">
      <joint>right_hand_Middle_Finger_Distal</joint>
      <mimicJoint>right_hand_j15</mimicJoint>
      <multiplier>1.0454</multiplier>
      <offset>0</offset>
      <sensitiveness>0.0</sensitiveness>
      <!-- if absolute difference between setpoint and process value is below this threshold, do nothing; 0.0 = disable [rad] -->
      <maxEffort>10.0</maxEffort>
    </plugin>
  </gazebo>
  <!-- RING FINGER JOINTS -->
  <joint name="right_hand_Ring_Finger" type="revolute">
    <parent link="right_hand_virtual_j"/>
    <child link="right_hand_j"/>
    <limit effort="10.0" lower="0.0" upper="0.98175" velocity="1"/>
    <origin rpy="1.5707 0 0" xyz="0 0 0"/>
    <axis xyz="0 0 1"/>
    <dynamics damping="50.5" friction="1"/>
  </joint>
  <joint name="right_hand_j12" type="revolute">
    <parent link="right_hand_j"/>
    <child link="right_hand_n"/>
    <limit effort="10.0" lower="0" upper="1.334" velocity="1"/>
    <origin rpy="0 0 0" xyz="0.05004 0 0"/>
    <axis xyz="0 0 1"/>
    <mimic joint="right_hand_Ring_Finger" multiplier="1.3588" offset="0"/>
    <dynamics damping="50.5" friction="1"/>
  </joint>
  <gazebo>
    <plugin filename="libroboticsgroup_upatras_gazebo_mimic_joint_plugin.so" name="right_hand_j12_mimic_joint_plugin">
      <joint>right_hand_Ring_Finger</joint>
      <mimicJoint>right_hand_j12</mimicJoint>
      <multiplier>1.3588</multiplier>
      <offset>0</offset>
      <sensitiveness>0.0</sensitiveness>
      <!-- if absolute difference between setpoint and process value is below this threshold, do nothing; 0.0 = disable [rad] -->
      <maxEffort>10.0</maxEffort>
    </plugin>
  </gazebo>
  <joint name="right_hand_j16" type="revolute">
    <parent link="right_hand_n"/>
    <child link="right_hand_r"/>
    <limit effort="10.0" lower="0" upper="1.395" velocity="1"/>
    <origin rpy="0 0 0" xyz="0.032 0 0"/>
    <axis xyz="0 0 1"/>
    <mimic joint="right_hand_Ring_Finger" multiplier="1.42093" offset="0"/>
    <dynamics damping="50.5" friction="1"/>
  </joint>
  <gazebo>
    <plugin filename="libroboticsgroup_upatras_gazebo_mimic_joint_plugin.so" name="right_hand_j16_mimic_joint_plugin">
      <joint>right_hand_Ring_Finger</joint>
      <mimicJoint>right_hand_j16</mimicJoint>
      <multiplier>1.42093</multiplier>
      <offset>0</offset>
      <sensitiveness>0.0</sensitiveness>
      <!-- if absolute difference between setpoint and process value is below this threshold, do nothing; 0.0 = disable [rad] -->
      <maxEffort>10.0</maxEffort>
    </plugin>
  </gazebo>
  <!-- PINKY JOINTS -->
  <joint name="right_hand_Pinky" type="revolute">
    <parent link="right_hand_virtual_i"/>
    <child link="right_hand_i"/>
    <limit effort="10.0" lower="0.0" upper="0.98175" velocity="1"/>
    <origin rpy="1.5707 0 0" xyz="0 0 0"/>
    <axis xyz="0 0 1"/>
    <dynamics damping="50.5" friction="1"/>
  </joint>
  <joint name="right_hand_j13" type="revolute">
    <parent link="right_hand_i"/>
    <child link="right_hand_m"/>
    <limit effort="10.0" lower="0" upper="1.334" velocity="1"/>
    <origin rpy="0 0 0" xyz="0.04454 0 0"/>
    <axis xyz="0 0 1"/>
    <mimic joint="right_hand_Pinky" multiplier="1.35880" offset="0"/>
    <dynamics damping="50.5" friction="1"/>
  </joint>
  <gazebo>
    <plugin filename="libroboticsgroup_upatras_gazebo_mimic_joint_plugin.so" name="right_hand_j13_mimic_joint_plugin">
      <joint>right_hand_Pinky</joint>
      <mimicJoint>right_hand_j13</mimicJoint>
      <multiplier>1.3588</multiplier>
      <offset>0</offset>
      <sensitiveness>0.0</sensitiveness>
      <!-- if absolute difference between setpoint and process value is below this threshold, do nothing; 0.0 = disable [rad] -->
      <maxEffort>10.0</maxEffort>
    </plugin>
  </gazebo>
  <joint name="right_hand_j17" type="revolute">
    <parent link="right_hand_m"/>
    <child link="right_hand_q"/>
    <limit effort="10.0" lower="0" upper="1.3971" velocity="1"/>
    <origin rpy="0 0 0" xyz="0.022 0 0"/>
    <axis xyz="0 0 1"/>
    <mimic joint="right_hand_Pinky" multiplier="1.42307" offset="0"/>
    <dynamics damping="50.5" friction="1"/>
  </joint>
  <gazebo>
    <plugin filename="libroboticsgroup_upatras_gazebo_mimic_joint_plugin.so" name="right_hand_j17_mimic_joint_plugin">
      <joint>right_hand_Pinky</joint>
      <mimicJoint>right_hand_j17</mimicJoint>
      <multiplier>1.42307</multiplier>
      <offset>0</offset>
      <sensitiveness>0.0</sensitiveness>
      <!-- if absolute difference between setpoint and process value is below this threshold, do nothing; 0.0 = disable [rad] -->
      <maxEffort>10.0</maxEffort>
    </plugin>
  </gazebo>
  <joint name="right_hand_index_spread" type="revolute">
    <parent link="right_hand_d2"/>
    <child link="right_hand_virtual_l"/>
    <limit effort="10.0" lower="0.0" upper="0.28833" velocity="1"/>
    <origin rpy="0 -1.5707 1.5707" xyz="-0.025 0 0.110"/>
    <axis xyz="0 0 1"/>
    <mimic joint="right_hand_Finger_Spread" multiplier="0.5" offset="0"/>
    <dynamics damping="50.5" friction="1"/>
  </joint>
  <gazebo>
    <plugin filename="libroboticsgroup_upatras_gazebo_mimic_joint_plugin.so" name="right_hand_index_spread_mimic_joint_plugin">
      <joint>right_hand_Finger_Spread</joint>
      <mimicJoint>right_hand_index_spread</mimicJoint>
      <multiplier>0.5</multiplier>
      <offset>0</offset>
      <sensitiveness>0.0</sensitiveness>
      <!-- if absolute difference between setpoint and process value is below this threshold, do nothing; 0.0 = disable [rad] -->
      <maxEffort>10.0</maxEffort>
    </plugin>
  </gazebo>
  <joint name="right_hand_middle_spread_dummy" type="fixed">
    <parent link="right_hand_d"/>
    <child link="right_hand_virtual_k"/>
    <origin rpy="0 -1.5707 1.5707" xyz="0 0 0.110"/>
  </joint>
  <joint name="right_hand_ring_spread" type="revolute">
    <parent link="right_hand_e5"/>
    <child link="right_hand_virtual_j"/>
    <limit effort="10.0" lower="0.0" upper="0.28833" velocity="1"/>
    <origin rpy="-1.5707 -1.5707 0" xyz="0.003855 0 0.0655"/>
    <axis xyz="0 0 1"/>
    <mimic joint="right_hand_Finger_Spread" multiplier="0.5" offset="0"/>
    <dynamics damping="50.5" friction="1"/>
  </joint>
  <gazebo>
    <plugin filename="libroboticsgroup_upatras_gazebo_mimic_joint_plugin.so" name="right_hand_ring_spread_mimic_joint_plugin">
      <joint>right_hand_Finger_Spread</joint>
      <mimicJoint>right_hand_ring_spread</mimicJoint>
      <multiplier>0.5</multiplier>
      <offset>0</offset>
      <sensitiveness>0.0</sensitiveness>
      <!-- if absolute difference between setpoint and process value is below this threshold, do nothing; 0.0 = disable [rad] -->
      <maxEffort>10.0</maxEffort>
    </plugin>
  </gazebo>
  <joint name="right_hand_Finger_Spread" type="revolute">
    <parent link="right_hand_e4"/>
    <child link="right_hand_virtual_i"/>
    <limit effort="10.0" lower="0.0" upper="0.5829" velocity="1"/>
    <origin rpy="-1.5707 -1.5707 0" xyz="0.025355 0 0.056"/>
    <axis xyz="0 0 1"/>
    <dynamics damping="50.5" friction="1"/>
  </joint>
  <!-- Transmissions -->
  <transmission name="thumb_flexion_trans">
    <type>transmission_interface/SimpleTransmission</type>
    <joint name="right_hand_Thumb_Flexion">
      <hardwareInterface>hardware_interface/EffortJointInterface</hardwareInterface>
    </joint>
    <actuator name="thumb_flexion_motor">
      <mechanicalReduction>1</mechanicalReduction>
    </actuator>
  </transmission>
  <transmission name="thumb_opposition_trans">
    <type>transmission_interface/SimpleTransmission</type>
    <joint name="right_hand_Thumb_Opposition">
      <hardwareInterface>hardware_interface/EffortJointInterface</hardwareInterface>
    </joint>
    <actuator name="thumb_opposition_motor">
      <mechanicalReduction>1</mechanicalReduction>
    </actuator>
  </transmission>
  <transmission name="index_distal_trans">
    <type>transmission_interface/SimpleTransmission</type>
    <joint name="right_hand_Index_Finger_Distal">
      <hardwareInterface>hardware_interface/EffortJointInterface</hardwareInterface>
    </joint>
    <actuator name="index_distal_motor">
      <mechanicalReduction>1</mechanicalReduction>
    </actuator>
  </transmission>
  <transmission name="index_proximal_trans">
    <type>transmission_interface/SimpleTransmission</type>
    <joint name="right_hand_Index_Finger_Proximal">
      <hardwareInterface>hardware_interface/EffortJointInterface</hardwareInterface>
    </joint>
    <actuator name="index_proximal_motor">
      <mechanicalReduction>1</mechanicalReduction>
    </actuator>
  </transmission>
  <transmission name="middle_proximal_trans">
    <type>transmission_interface/SimpleTransmission</type>
    <joint name="right_hand_Middle_Finger_Proximal">
      <hardwareInterface>hardware_interface/EffortJointInterface</hardwareInterface>
    </joint>
    <actuator name="middle_proximal_motor">
      <mechanicalReduction>1</mechanicalReduction>
    </actuator>
  </transmission>
  <transmission name="middle_distal_trans">
    <type>transmission_interface/SimpleTransmission</type>
    <joint name="right_hand_Middle_Finger_Distal">
      <hardwareInterface>hardware_interface/EffortJointInterface</hardwareInterface>
    </joint>
    <actuator name="middle_distal_motor">
      <mechanicalReduction>1</mechanicalReduction>
    </actuator>
  </transmission>
  <transmission name="ring_trans">
    <type>transmission_interface/SimpleTransmission</type>
    <joint name="right_hand_Ring_Finger">
      <hardwareInterface>hardware_interface/EffortJointInterface</hardwareInterface>
    </joint>
    <actuator name="ring_motor">
      <mechanicalReduction>1</mechanicalReduction>
    </actuator>
  </transmission>
  <transmission name="pinky_trans">
    <type>transmission_interface/SimpleTransmission</type>
    <joint name="right_hand_Pinky">
      <hardwareInterface>hardware_interface/EffortJointInterface</hardwareInterface>
    </joint>
    <actuator name="pinky_motor">
      <mechanicalReduction>1</mechanicalReduction>
    </actuator>
  </transmission>
  <transmission name="spread_trans">
    <type>transmission_interface/SimpleTransmission</type>
    <joint name="right_hand_Finger_Spread">
      <hardwareInterface>hardware_interface/EffortJointInterface</hardwareInterface>
    </joint>
    <actuator name="spread_motor">
      <mechanicalReduction>1</mechanicalReduction>
    </actuator>
  </transmission>
  <gazebo>
    <plugin filename="libgazebo_ros_f3d.so" name="gazebo_ros_f3d">
      <bodyName>right_hand_t</bodyName>
      <topicName>right_hand_t_f3d</topicName>
      <frameName>right_hand_t</frameName>
    </plugin>
  </gazebo>
</robot>
